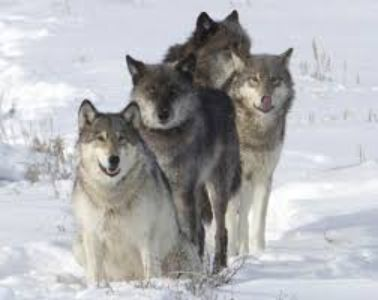wolf: (131, 54, 240, 272), (69, 97, 166, 281), (232, 49, 295, 254), (190, 5, 256, 94)
